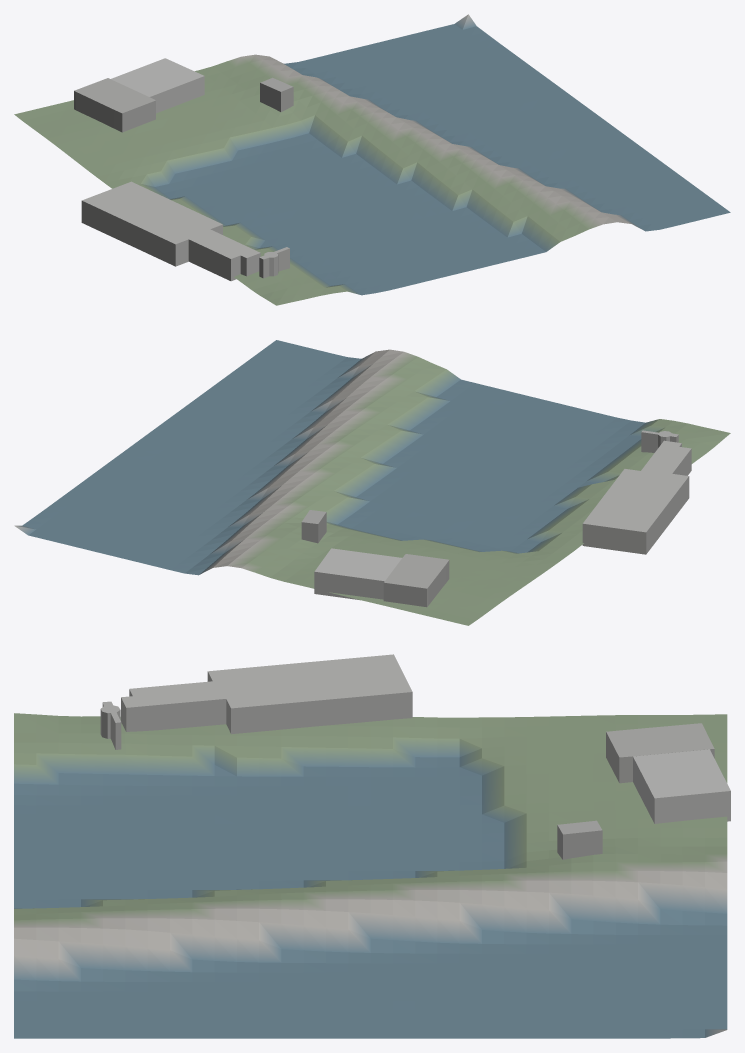
File: tile_8_-6.glb
3 renders of one model, top to bottom at view 1: azimuth 30°, elevation 25°; view 2: azimuth 150°, elevation 25°; view 3: azimuth 270°, elevation 25°, orthographic. The views are drawn at different scales.
Visible parts, largest first — view 1: terrain, buildings; view 2: terrain, buildings; view 3: terrain, buildings.
Part boxes in pixels (left/top/right/bottom): terrain: left=14, top=14, right=730, bottom=305; buildings: left=74, top=58, right=293, bottom=281; terrain: left=14, top=340, right=730, bottom=625; buildings: left=301, top=430, right=691, bottom=607; terrain: left=14, top=713, right=727, bottom=1038; buildings: left=100, top=654, right=730, bottom=859.
Size of what is drawn, in the model's own units: 287 by 19.12 by 257.
